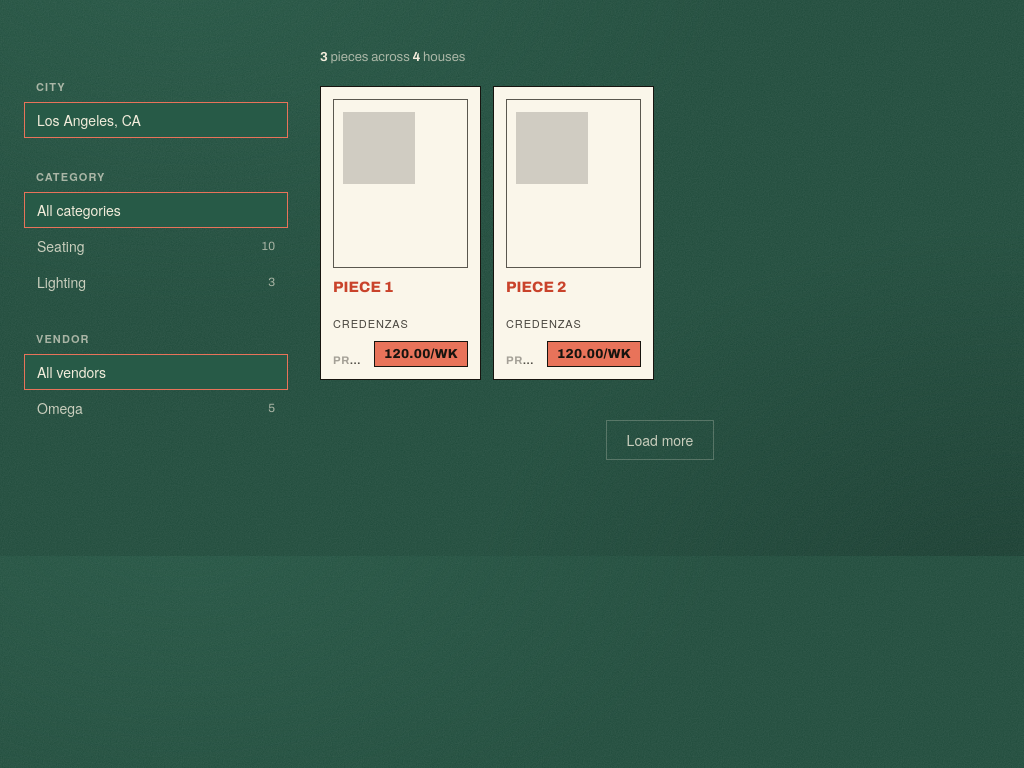
Test: BrowseGrid › loads the next page from the offset and appends it
Click the button "Load more". click: (660, 440)
box: [606,420,714,460]
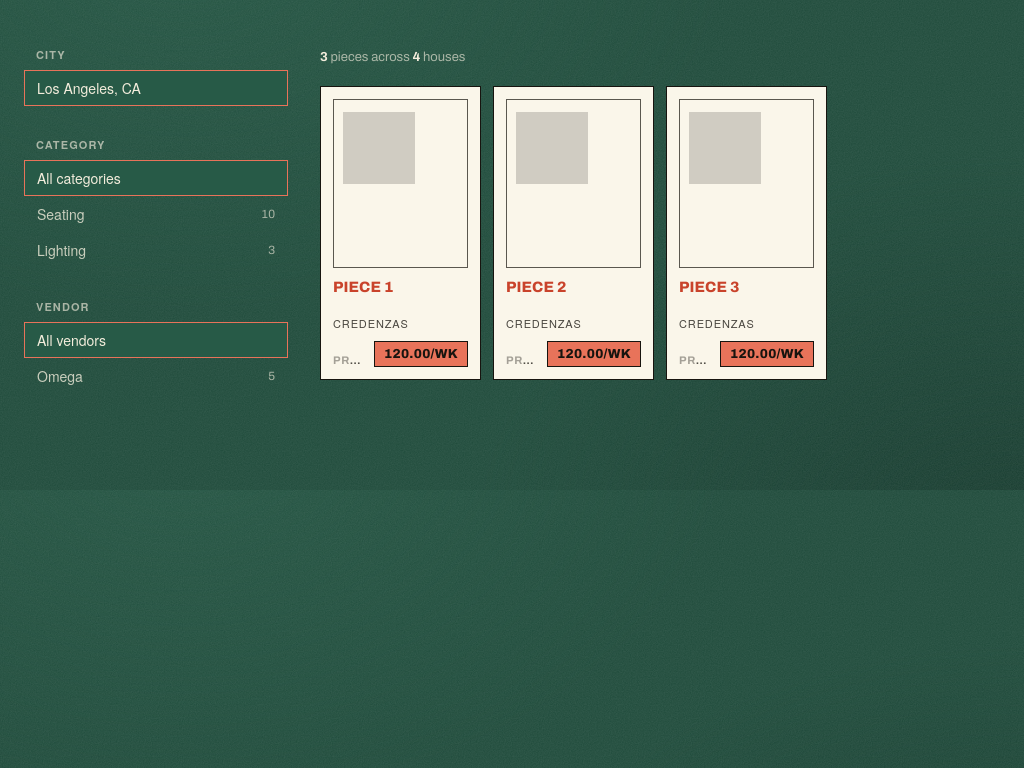
Result: the link "Piece 3 credenzas Prop house withheld 120.00/WK" is shown at [666,86,827,380]
Result: the number of links is 3 at [320,86,481,380]; [493,86,654,380]; [666,86,827,380]
Result: the button "Load" is gone
